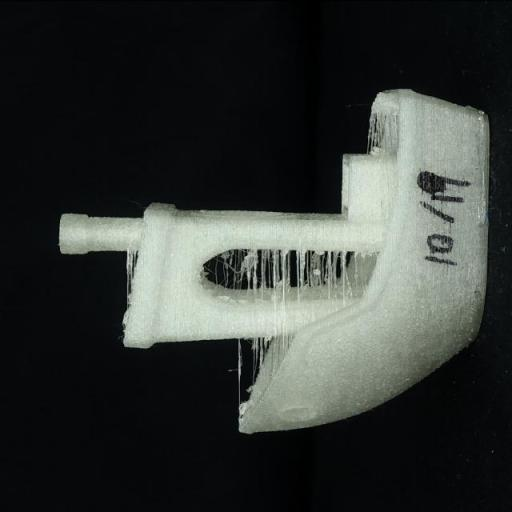stringing: (205, 251, 369, 298), (234, 340, 248, 374), (122, 250, 136, 284), (248, 337, 274, 353)
